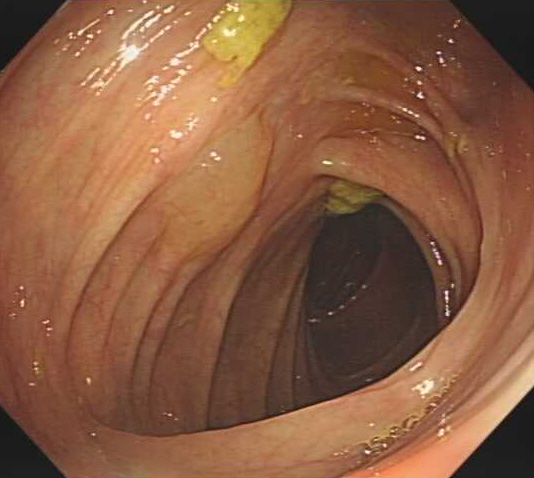others: (160, 112, 274, 269)
